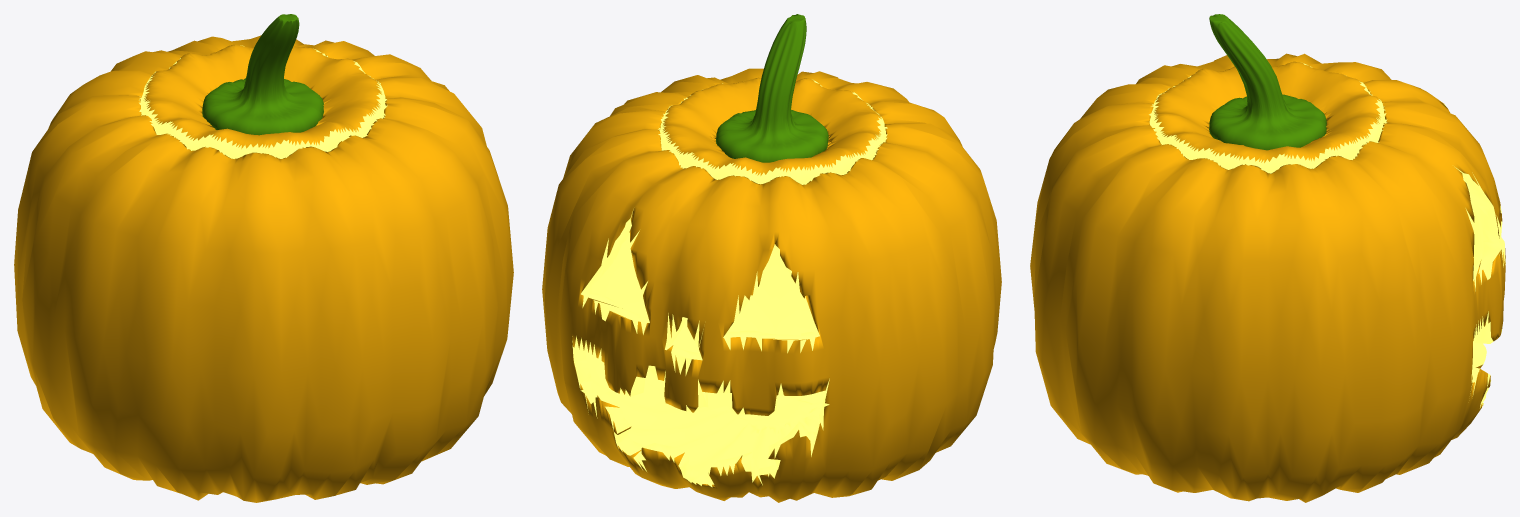
The model's file is Good Jack03.fbx.
3 renders of one model, left to right at view 1: azimuth 30°, elevation 25°; view 2: azimuth 150°, elevation 25°; view 3: azimuth 270°, elevation 25°, orthographic. The views are drawn at different scales.
Visible parts, largest first — view 1: Connect; view 2: Connect; view 3: Connect.
Part boxes in pixels (bbox=[...]): Connect: bbox=[14, 14, 513, 502]; Connect: bbox=[542, 14, 1001, 502]; Connect: bbox=[1030, 14, 1505, 502].
Size of the model in its own units: 390 by 381 by 391.
